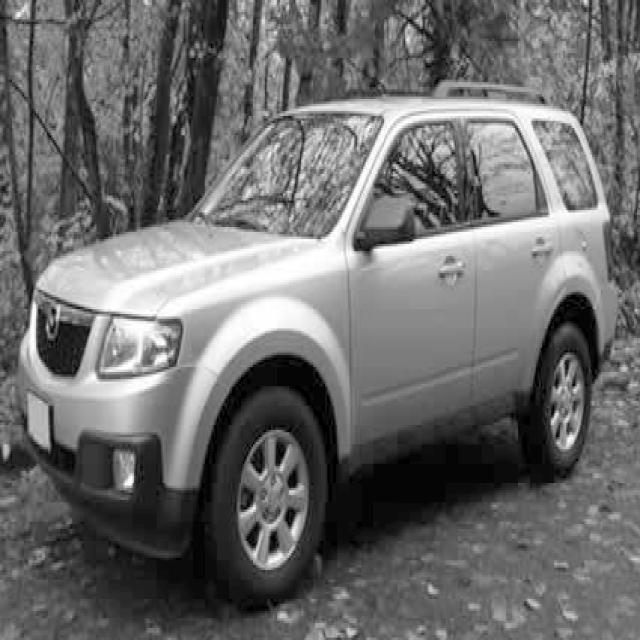car: (15, 82, 617, 609)
